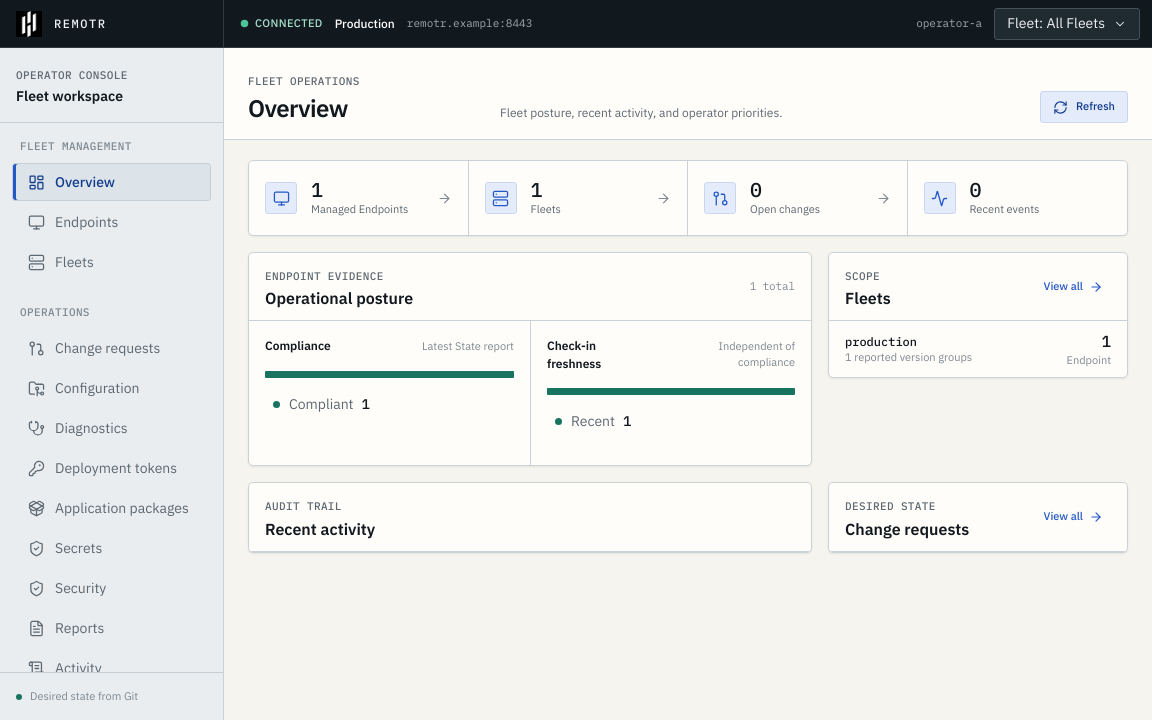
Scenario: Endpoint removal flow › keeps the Endpoint detail, clears confirmation, and preserves inventory after failure
The width and height of the screenshot is (1152, 720).
Click the button "Endpoints" at x=112, y=222, box [12,203,211,241]
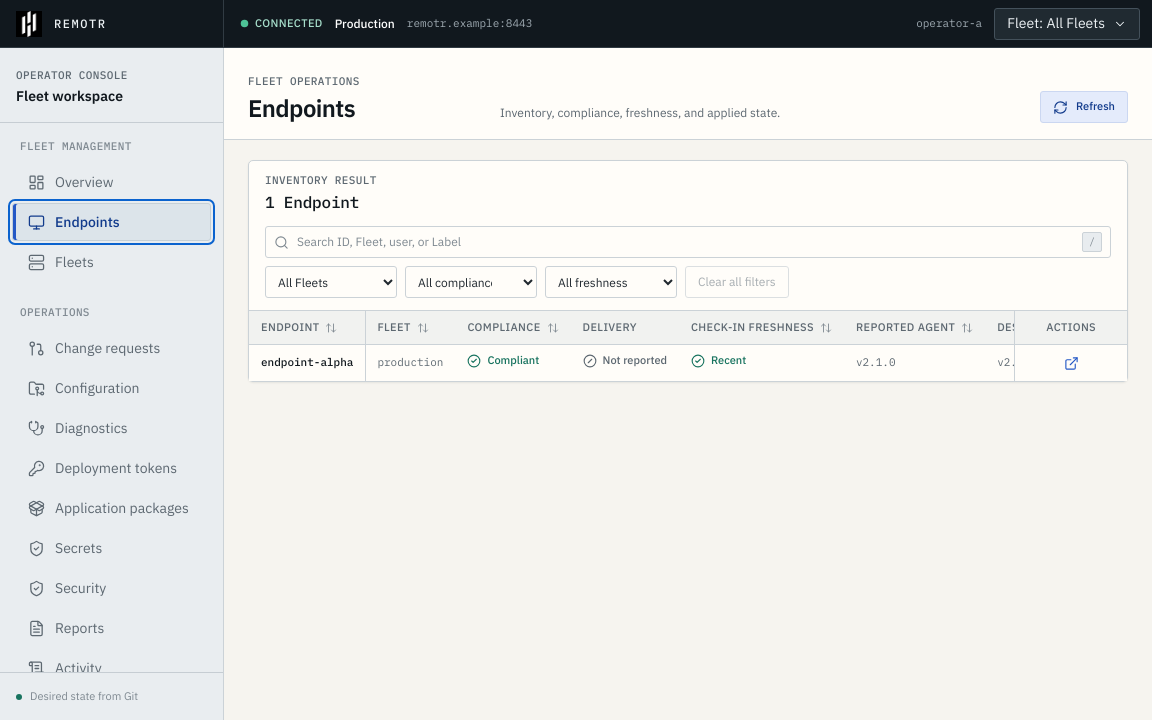
Click the button named "Inspect endpoint-alpha" at x=1071, y=363, box [1057,349,1085,377]
(page scrolled)
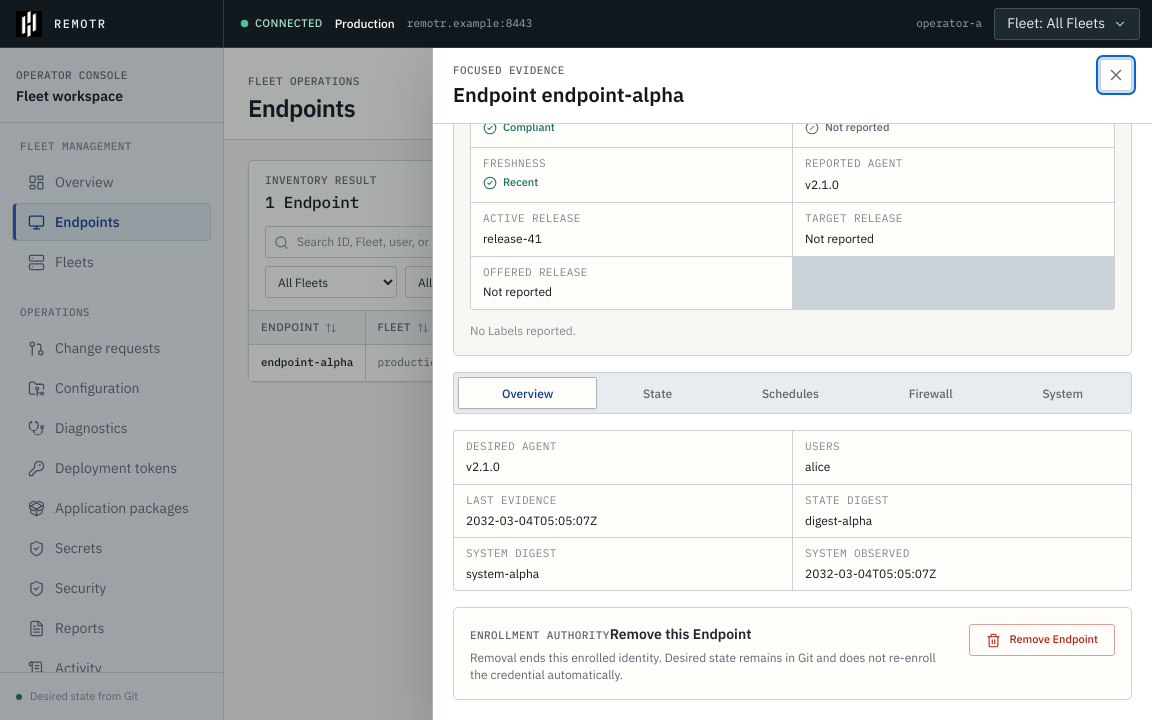
Click the button with aria-label "Remove Endpoint endpoint-alpha" at x=1042, y=640, box [969,624,1115,656]
(page scrolled)
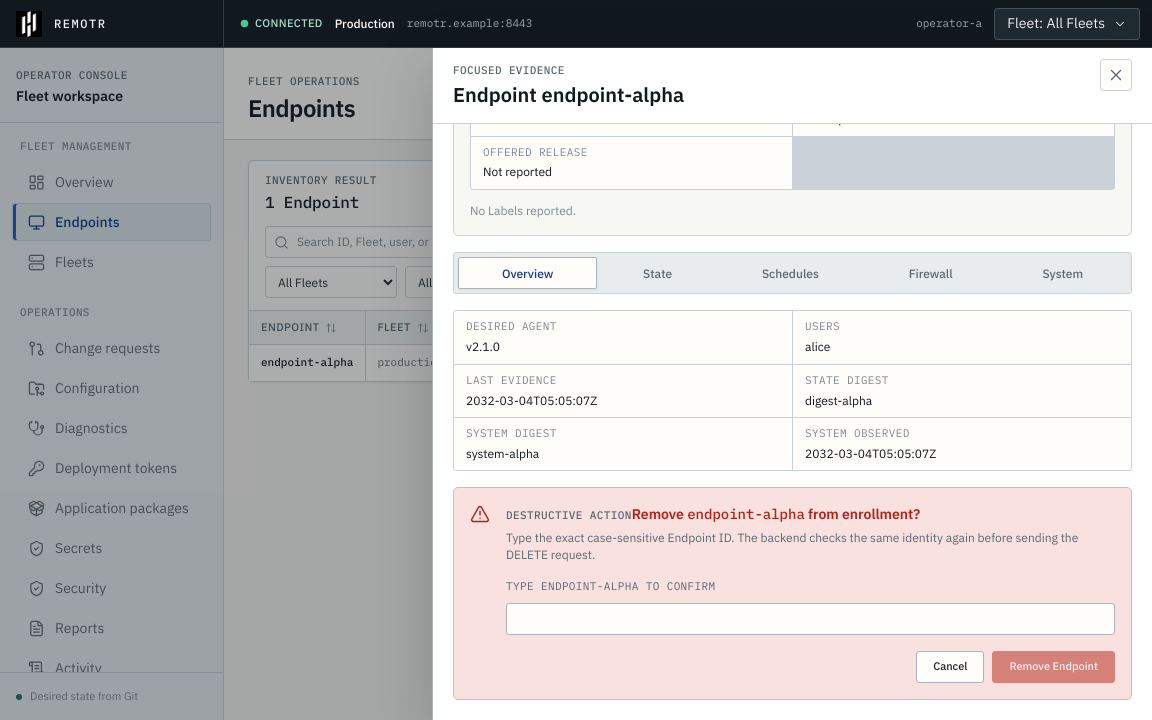
Type "endpoint-alpha" into the field labelled "Type endpoint-alpha to confirm" at x=810, y=619, box [506,603,1115,635]
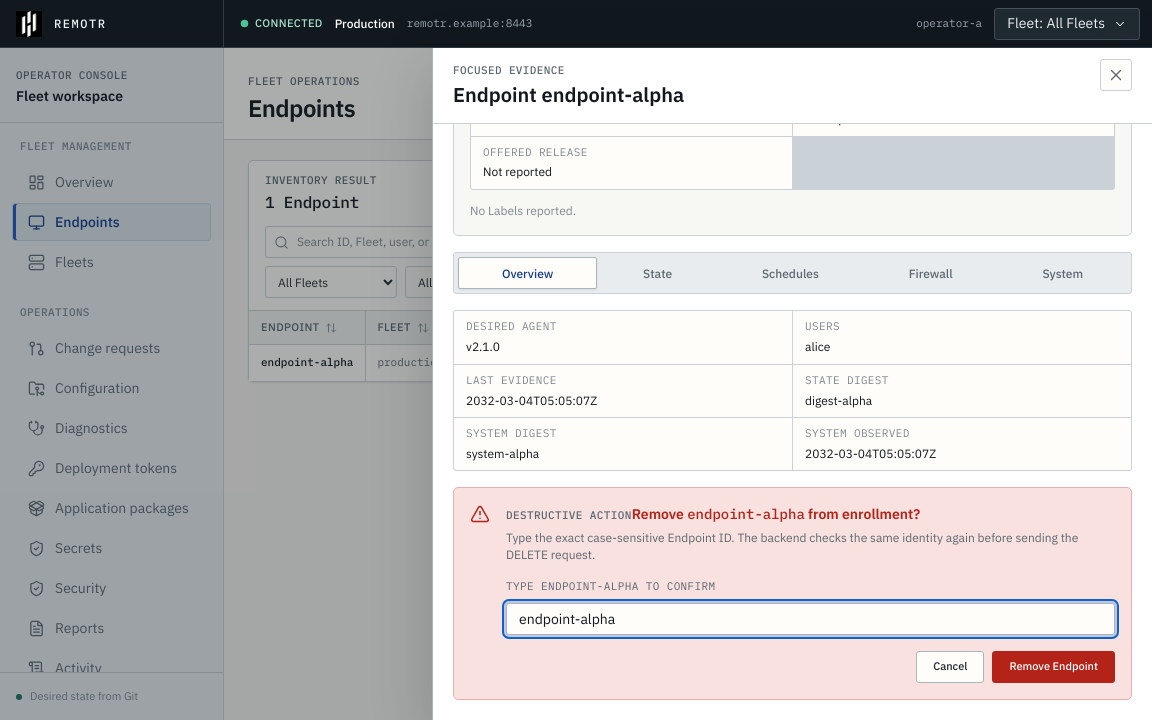
Click the button "Remove Endpoint" at x=1054, y=667, box [992,651,1115,683]
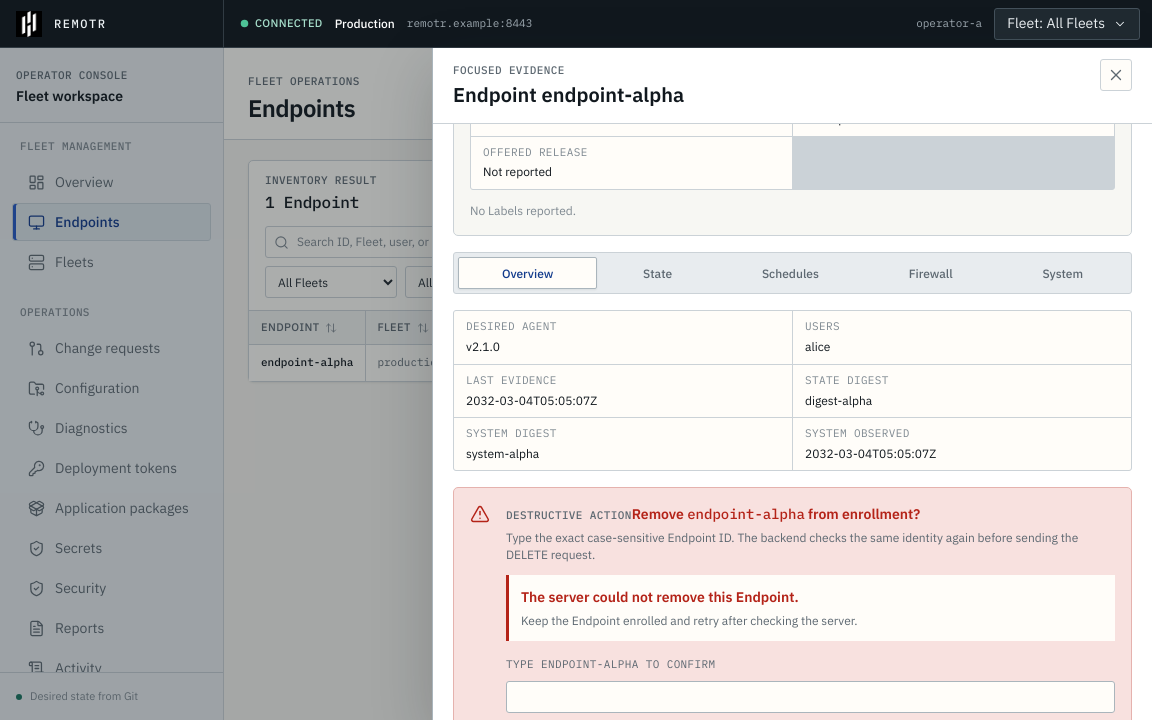
Expected: the dialog "Endpoint endpoint-alpha" is shown, [432,48,1151,719]
Expected: the message named "Endpoint removal failed" shows "The server could not remove this Endpoint.", [521,588,799,606]
Expected: the field labelled "Type endpoint-alpha to confirm" is empty, [506,681,1115,713]
